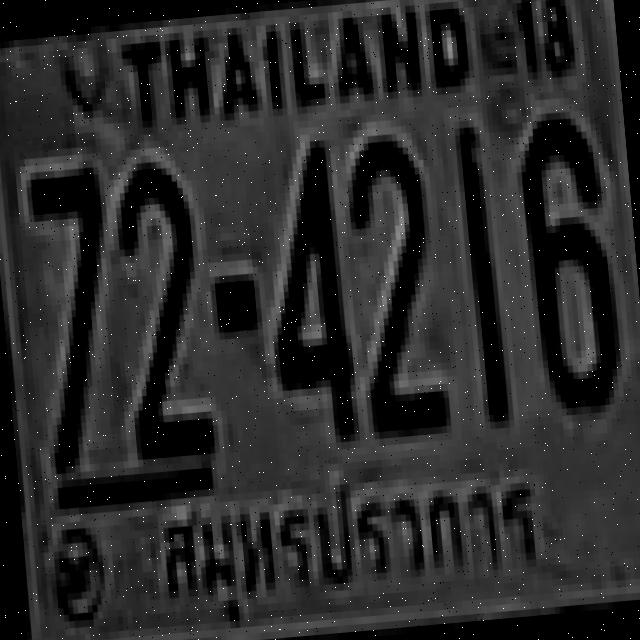1: (452, 126, 506, 423)
2: (347, 134, 449, 428), (116, 157, 214, 458)
4: (259, 136, 358, 444)
6: (511, 109, 619, 411)
7: (24, 160, 118, 467)
SamutPrakan: (160, 463, 554, 621)
